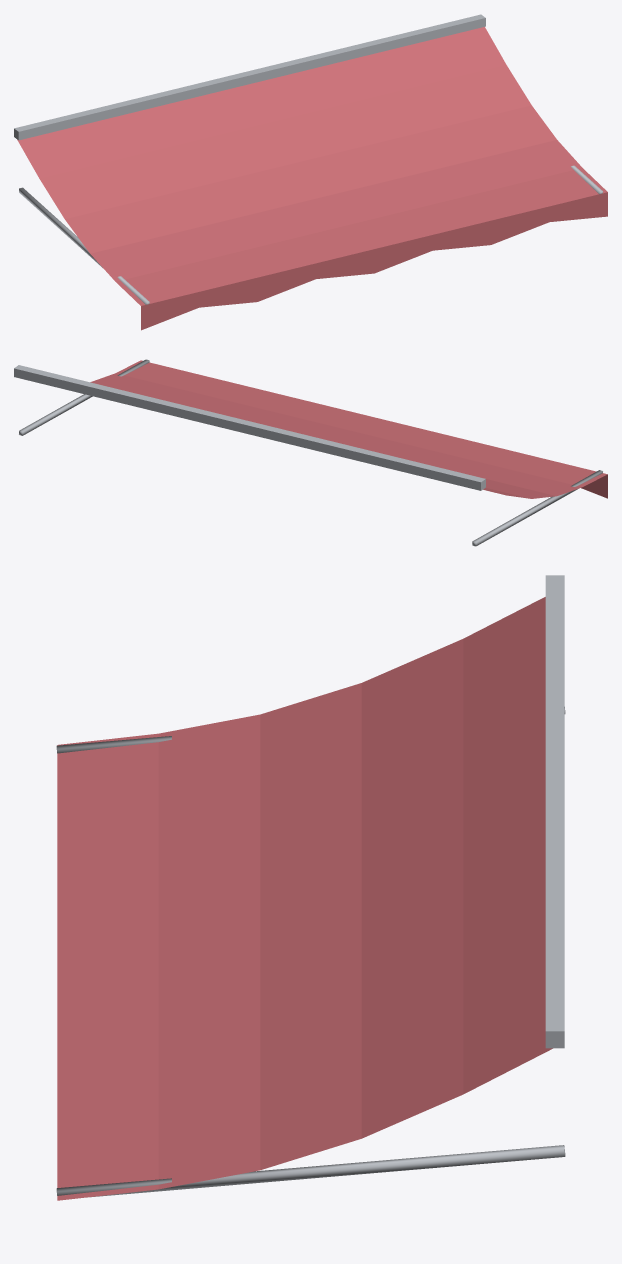
File: city_awning_coral.glb
The picture shows the model from 3 angles, top to bottom: view 1: azimuth 30°, elevation 25°; view 2: azimuth 150°, elevation 25°; view 3: azimuth 270°, elevation 25°; orthographic projection. The views are drawn at different scales.
Visible parts, largest first — view 1: CityAwningCoral_Canvas, CityAwningCoral_Rail, CityAwningCoral_Arm0.35; view 2: CityAwningCoral_Canvas, CityAwningCoral_Rail, CityAwningCoral_Arm0.35, CityAwningCoral_Arm3.65; view 3: CityAwningCoral_Canvas, CityAwningCoral_Rail, CityAwningCoral_Arm3.65.
Part boxes in pixels (box(x1,y1,x2,y2)): CityAwningCoral_Canvas: box(17, 27, 607, 330); CityAwningCoral_Rail: box(14, 14, 485, 140); CityAwningCoral_Arm0.35: box(19, 187, 149, 304); CityAwningCoral_Canvas: box(90, 360, 607, 498); CityAwningCoral_Rail: box(14, 365, 485, 490); CityAwningCoral_Arm0.35: box(472, 470, 602, 546); CityAwningCoral_Arm3.65: box(19, 359, 149, 435); CityAwningCoral_Canvas: box(57, 597, 552, 1200); CityAwningCoral_Rail: box(545, 575, 564, 1048); CityAwningCoral_Arm3.65: box(56, 1145, 565, 1197).
Bounding box in the file's own units: 3.4 × 0.76 × 1.6.
